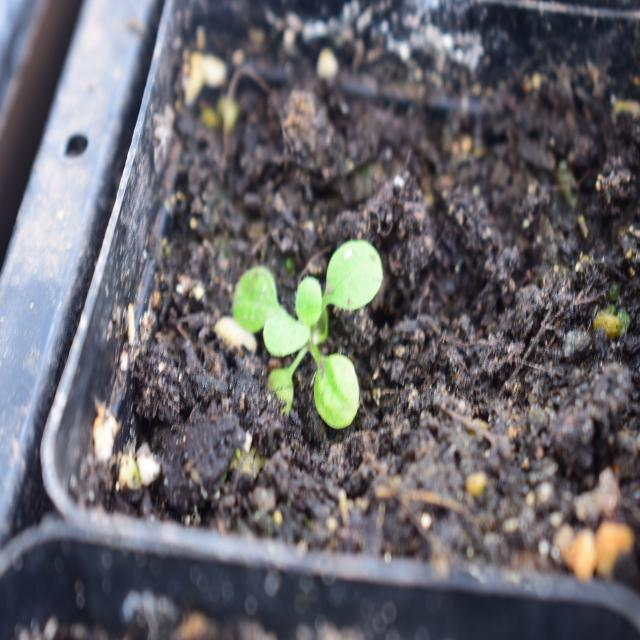Shepherd_Purse: (222, 225, 402, 441)
